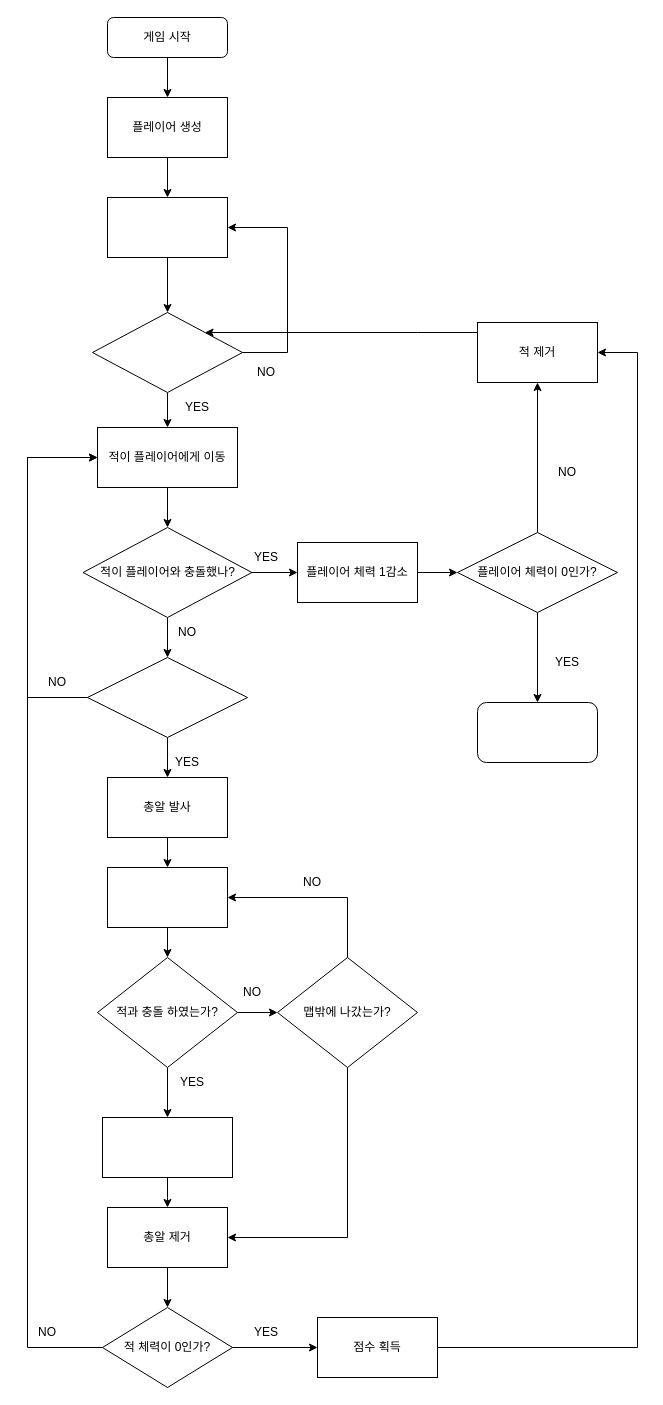
The diagram is 663 pixels wide and 1405 high, and some of its shapes have lost their labels. The shapes that lost their labels are listed below. From the top down, each one's centre as x and y in pixels, then its label:
At point (167, 227): "적 생성".
At point (167, 352): "적이 일정 수 있는가?".
At point (167, 697): "클릭을 했는가?".
At point (537, 732): "게임 종료".
At point (167, 897): "총알 이동".
At point (167, 1147): "적 충동한 적 체력 감소".
